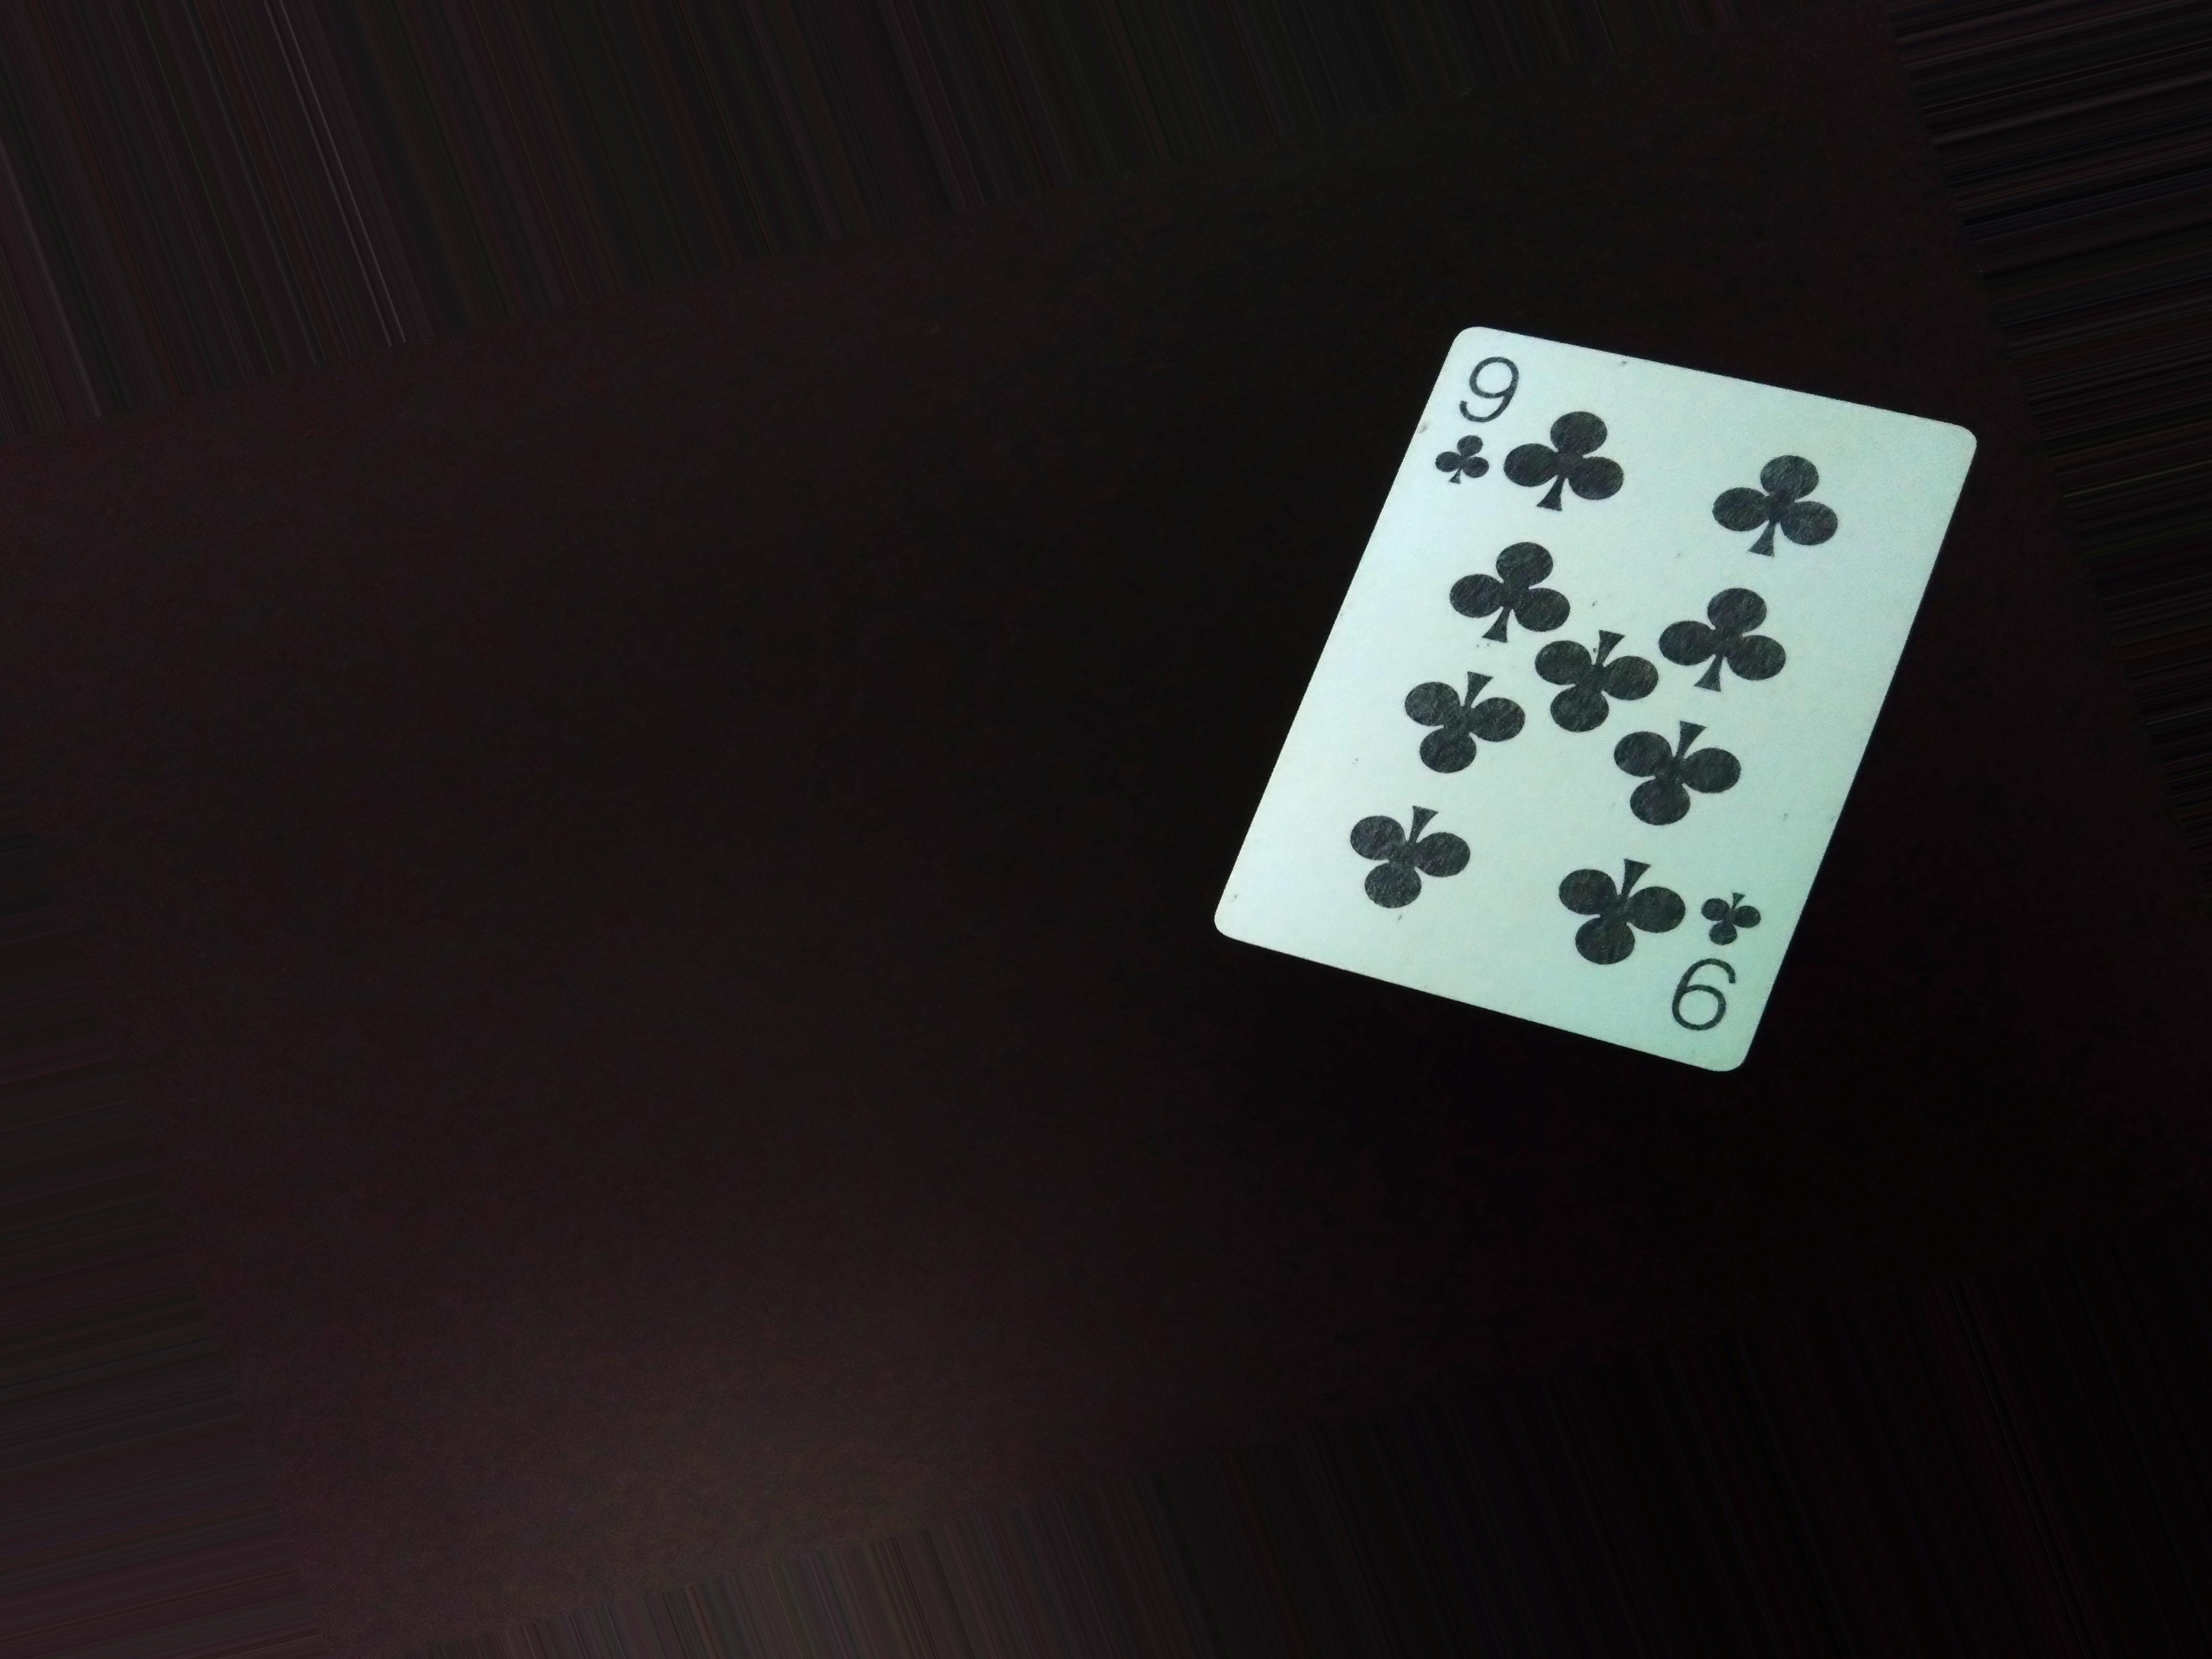9C: (1426, 350, 1526, 486)
